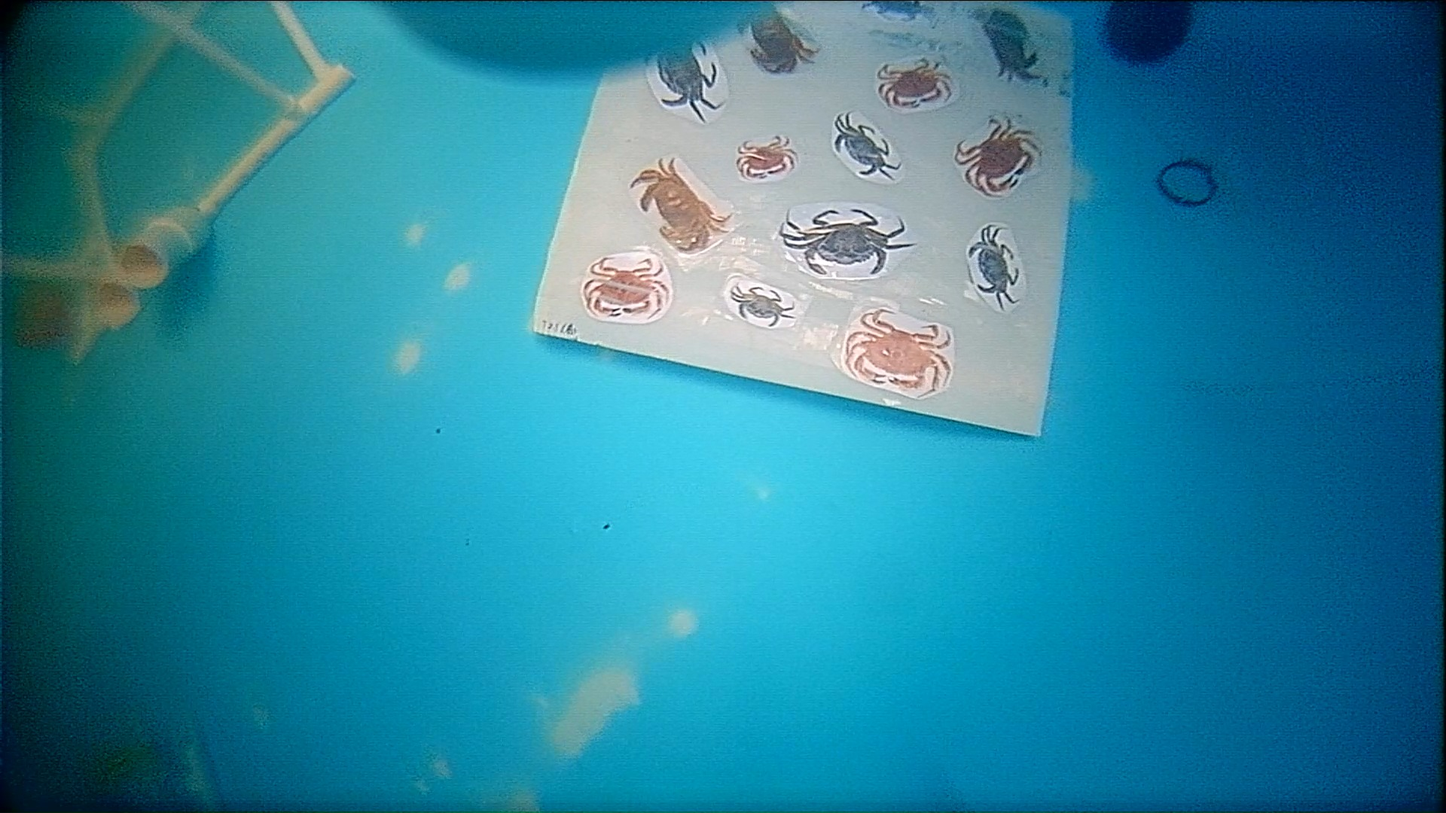GreenCrab: (780, 209, 916, 276), (834, 114, 901, 178), (730, 286, 793, 327)
